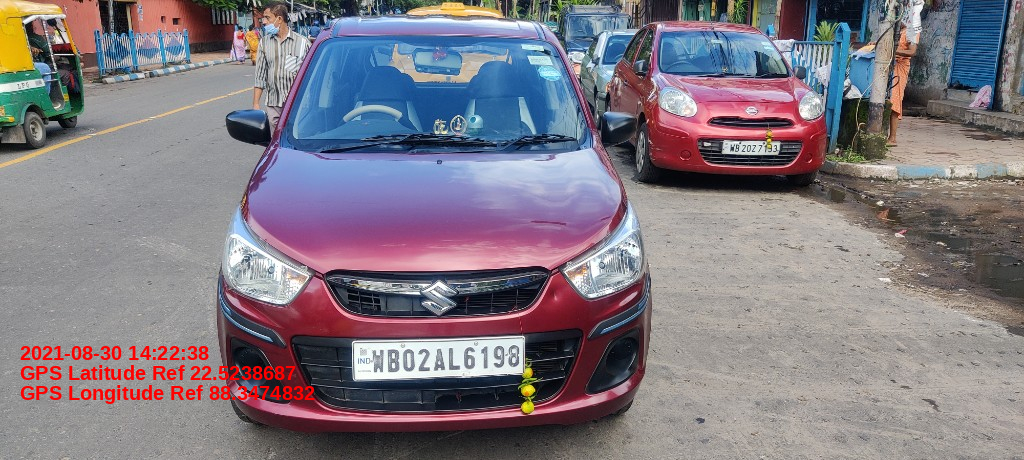Pressed: (547, 285, 568, 306)
